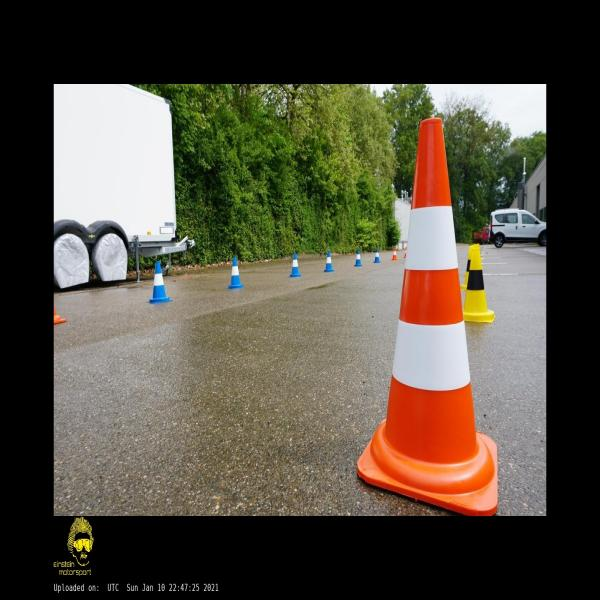blue_cone: (146, 262, 172, 303), (228, 258, 243, 288), (290, 253, 300, 277), (324, 251, 334, 272), (355, 250, 362, 266), (374, 249, 380, 263)
large_orange_cone: (357, 117, 498, 514)
orange_cone: (392, 247, 398, 260), (404, 247, 406, 258)
yellow_cone: (463, 248, 495, 322), (461, 246, 473, 290)
